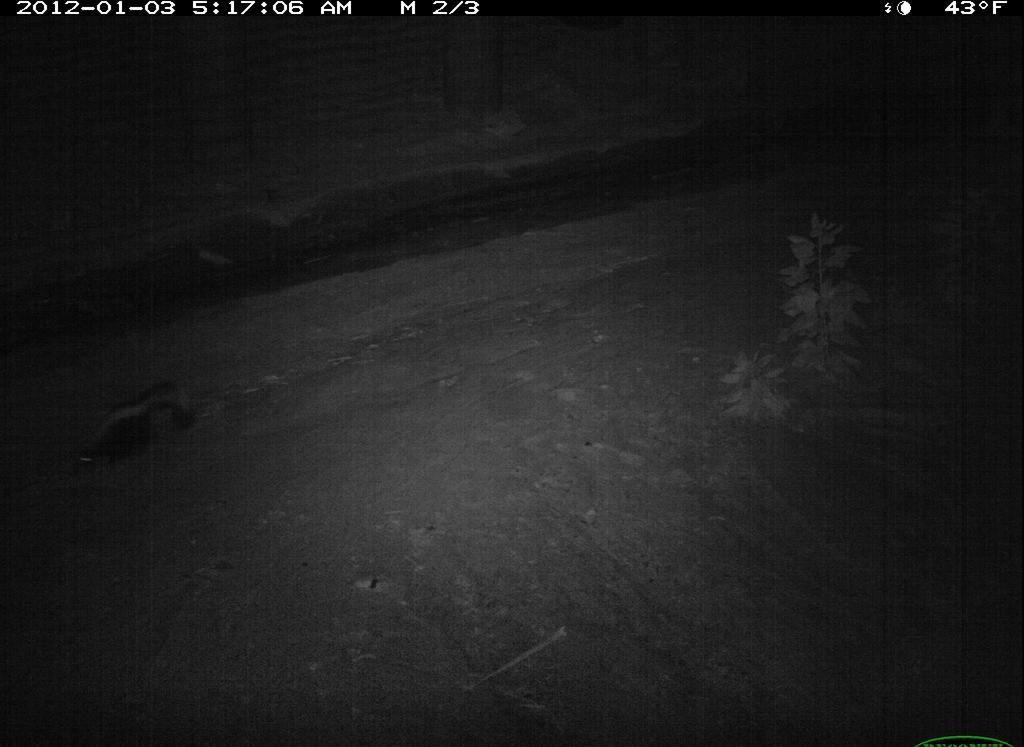skunk: (66, 368, 203, 478)
